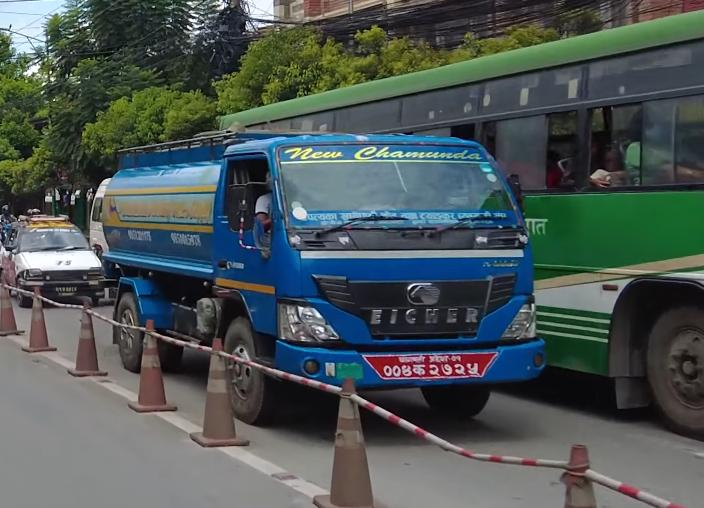bus: (444, 34, 704, 416)
mini_truck: (98, 130, 553, 438)
taxi: (4, 202, 114, 311)
